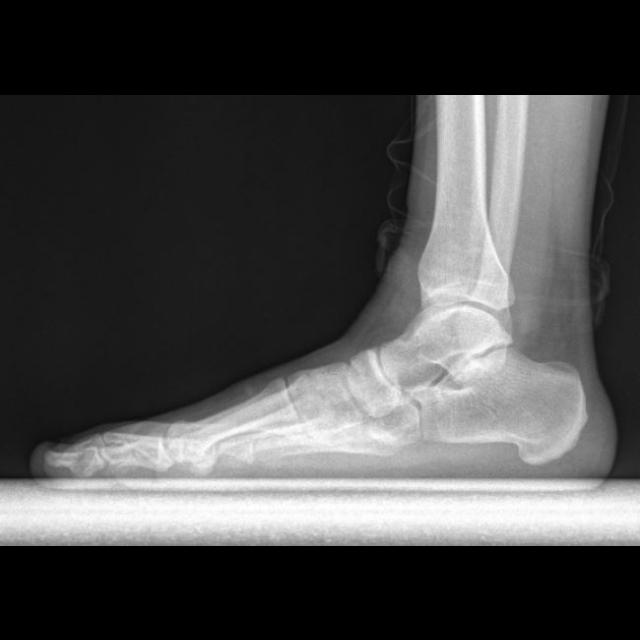a: (408, 345, 585, 462)
b: (348, 343, 401, 418)
c: (168, 370, 298, 465)
